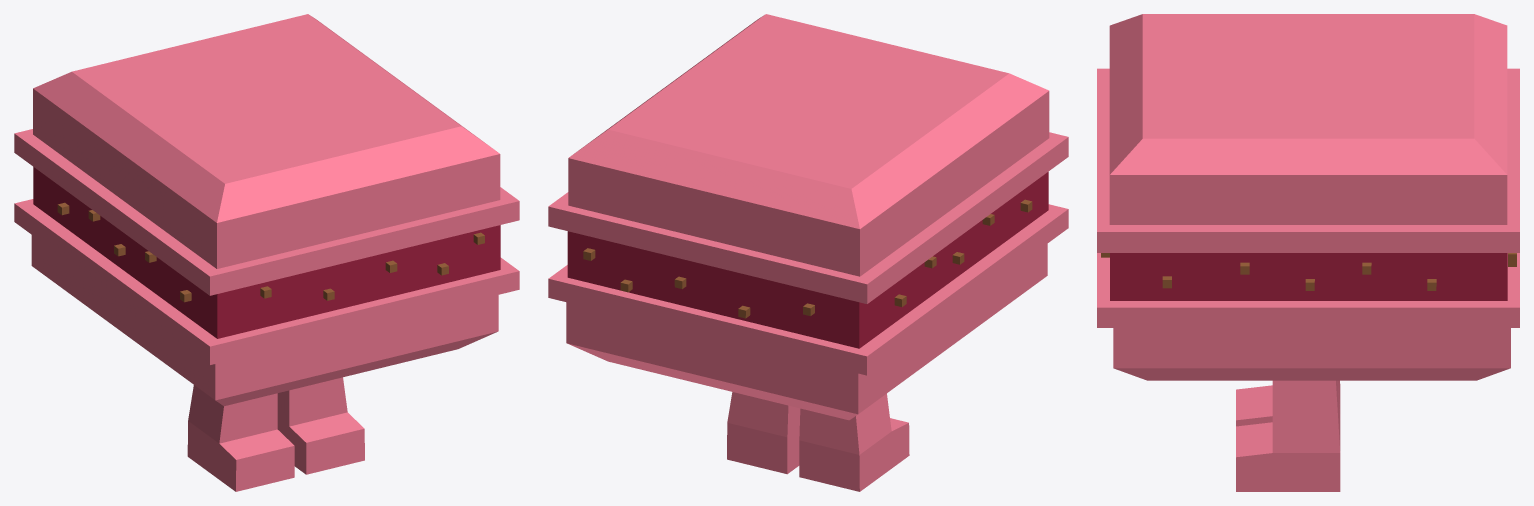
File: st1_block2.fbx
The picture shows the model from 3 angles, left to right: view 1: azimuth 30°, elevation 25°; view 2: azimuth 150°, elevation 25°; view 3: azimuth 270°, elevation 25°; orthographic projection. The views are drawn at different scales.
Visible parts, largest first — view 1: st1_block2_head, st1_block2_down, st1_block2_middle, st1_block2_L_leg, st1_block2_R_leg, st1_block2_middle_box; view 2: st1_block2_head, st1_block2_down, st1_block2_middle, st1_block2_L_leg, st1_block2_R_leg, st1_block2_middle_box; view 3: st1_block2_head, st1_block2_down, st1_block2_middle, st1_block2_R_leg, st1_block2_L_leg, st1_block2_middle_box.
Boxes of the visible parts, bbox=[...] form: st1_block2_head: bbox=[14, 14, 519, 295]; st1_block2_down: bbox=[14, 199, 519, 406]; st1_block2_middle: bbox=[33, 167, 500, 338]; st1_block2_L_leg: bbox=[187, 385, 294, 491]; st1_block2_R_leg: bbox=[277, 377, 364, 474]; st1_block2_middle_box: bbox=[57, 202, 484, 302]; st1_block2_head: bbox=[548, 14, 1068, 303]; st1_block2_down: bbox=[548, 204, 1068, 420]; st1_block2_middle: bbox=[567, 172, 1048, 348]; st1_block2_L_leg: bbox=[799, 393, 909, 491]; st1_block2_R_leg: bbox=[727, 392, 800, 474]; st1_block2_middle_box: bbox=[583, 199, 1032, 318]; st1_block2_head: bbox=[1097, 14, 1519, 252]; st1_block2_down: bbox=[1097, 253, 1519, 380]; st1_block2_middle: bbox=[1110, 253, 1507, 300]; st1_block2_R_leg: bbox=[1236, 380, 1340, 491]; st1_block2_L_leg: bbox=[1236, 380, 1340, 426]; st1_block2_middle_box: bbox=[1101, 253, 1516, 290].
Bounding box in the file's own units: 445 × 484 × 487.
Materials: 1 (1 with a texture image).
